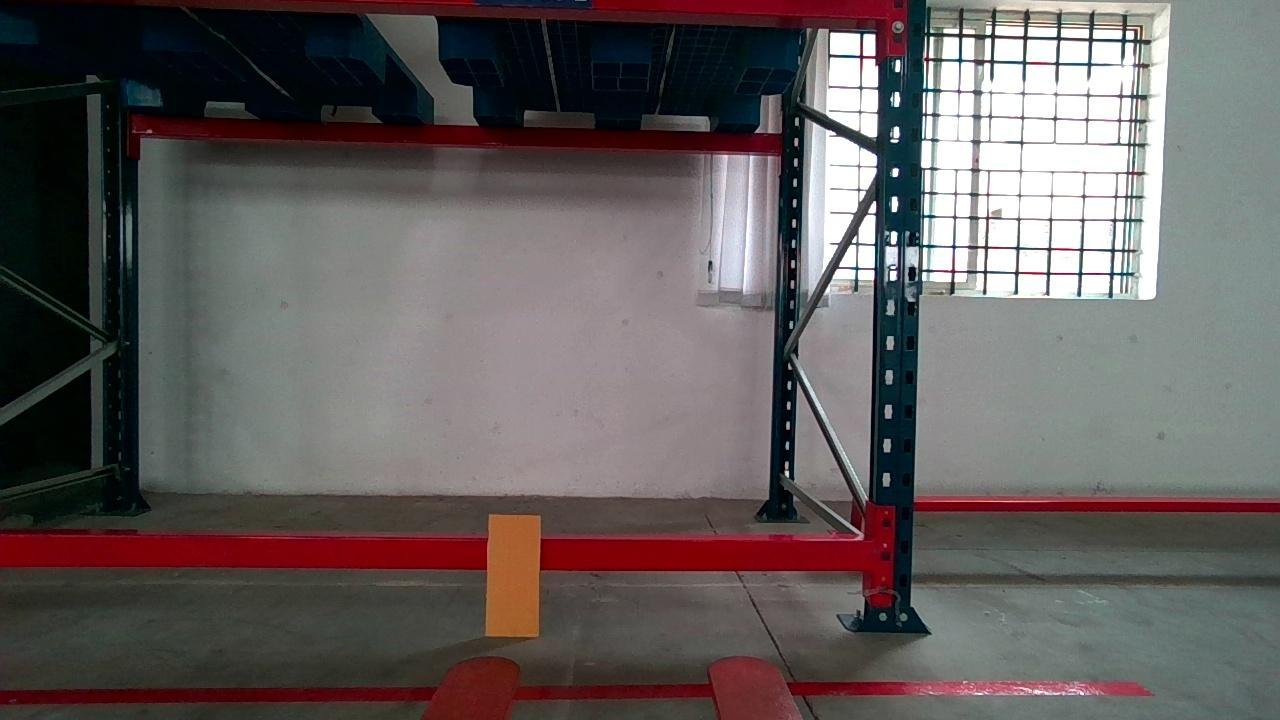h_rack: (2, 533, 870, 574)
orange_strip: (485, 515, 540, 634)
red_line: (0, 680, 1150, 708)
